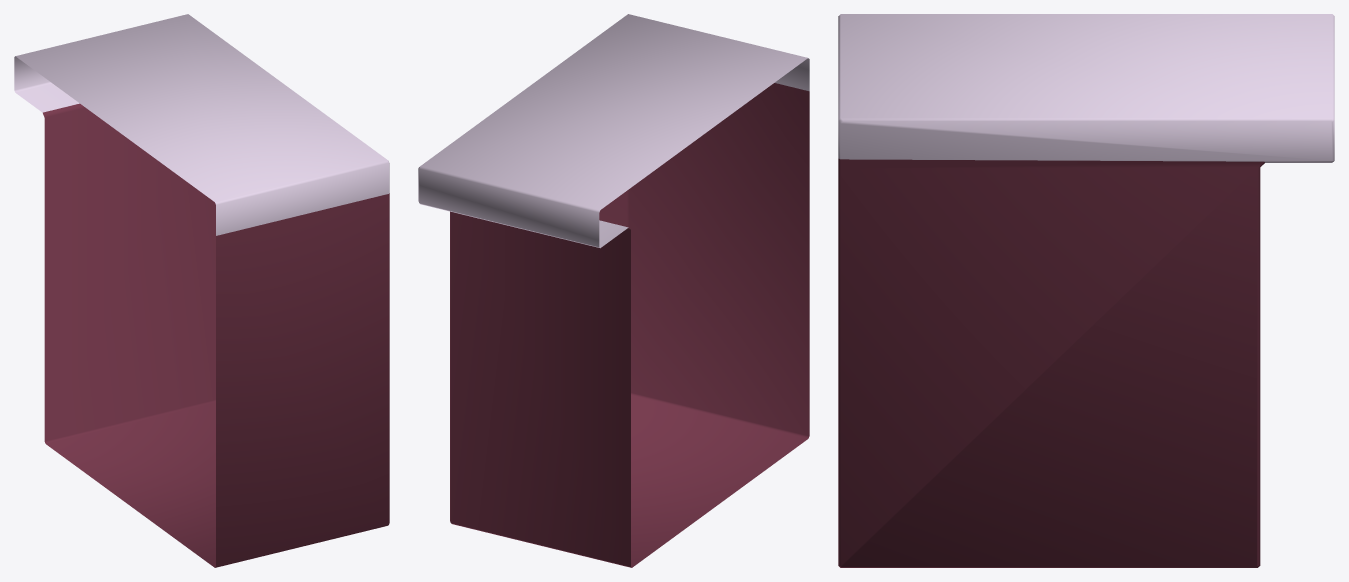
File: HalfCounterLeft.fbx
3 views of the same model, side by side, from view 1: azimuth 30°, elevation 25°; view 2: azimuth 150°, elevation 25°; view 3: azimuth 270°, elevation 25° (orthographic). The views are drawn at different scales.
Visible parts, largest first — view 1: counterEndLeft; view 2: counterEndLeft; view 3: counterEndLeft.
Part boxes in pixels (left/top/right/bottom): counterEndLeft: left=14, top=14, right=389, bottom=567; counterEndLeft: left=418, top=14, right=809, bottom=567; counterEndLeft: left=838, top=14, right=1334, bottom=567.
Bounding box in the file's own units: 100 × 200 × 200.
